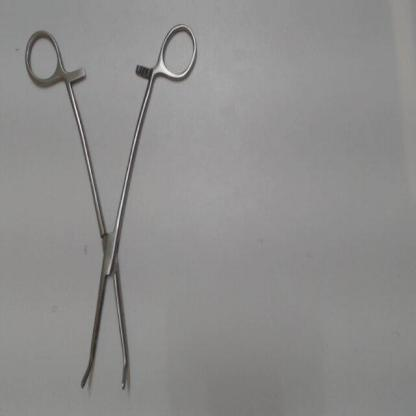Lahey Forceps: (21, 17, 201, 397)
